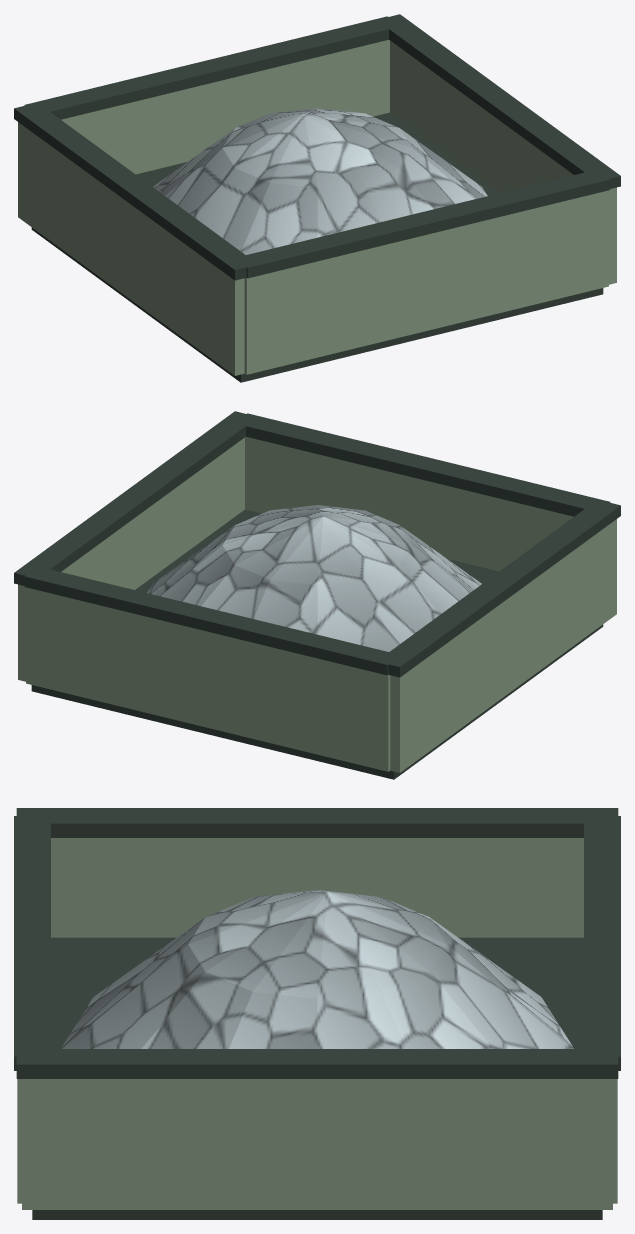
The model's file is bulk-full.glb.
3 views of the same model, one above another, from view 1: azimuth 30°, elevation 25°; view 2: azimuth 150°, elevation 25°; view 3: azimuth 270°, elevation 25° (orthographic). The views are drawn at different scales.
Parts seen in each view (by area): view 1: Mesh_CargoContainer_sage, Mesh_CargoContainer_ink, Textured aggregate heap; view 2: Mesh_CargoContainer_sage, Mesh_CargoContainer_ink, Textured aggregate heap; view 3: Mesh_CargoContainer_sage, Mesh_CargoContainer_ink, Textured aggregate heap.
Boxes of the visible parts, bbox=[...] form: Mesh_CargoContainer_sage: bbox=[18, 40, 616, 375]; Mesh_CargoContainer_ink: bbox=[14, 14, 620, 382]; Textured aggregate heap: bbox=[153, 108, 487, 254]; Mesh_CargoContainer_sage: bbox=[18, 437, 616, 772]; Mesh_CargoContainer_ink: bbox=[14, 411, 620, 779]; Textured aggregate heap: bbox=[147, 505, 481, 651]; Mesh_CargoContainer_sage: bbox=[17, 838, 617, 1209]; Mesh_CargoContainer_ink: bbox=[14, 808, 620, 1219]; Textured aggregate heap: bbox=[61, 890, 573, 1048].
Bounding box in the file's own units: 0.575 × 0.21 × 0.575.
3 materials, 1 textured.
